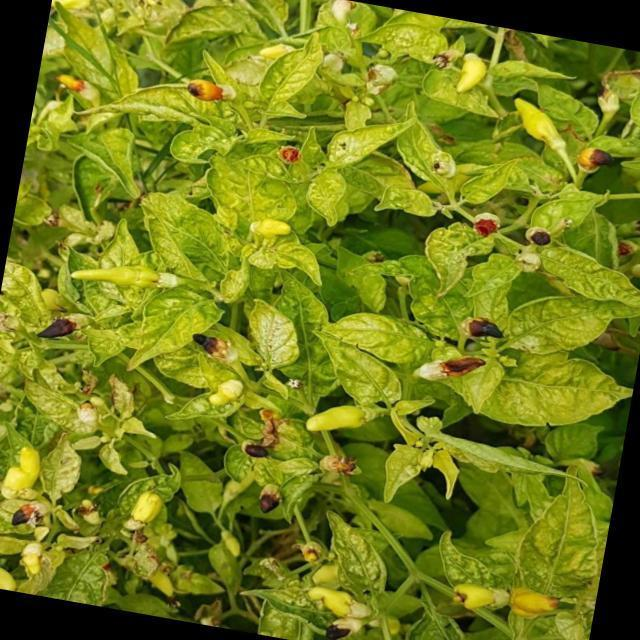Yellow Curl Virus: (482, 342, 634, 443), (507, 459, 612, 595), (504, 281, 640, 369), (130, 189, 241, 286), (123, 281, 223, 385), (422, 430, 589, 491), (308, 509, 412, 602), (304, 331, 414, 407), (256, 18, 331, 114), (234, 294, 314, 378), (323, 308, 440, 363), (456, 152, 518, 212), (302, 163, 354, 232), (368, 178, 446, 222)
